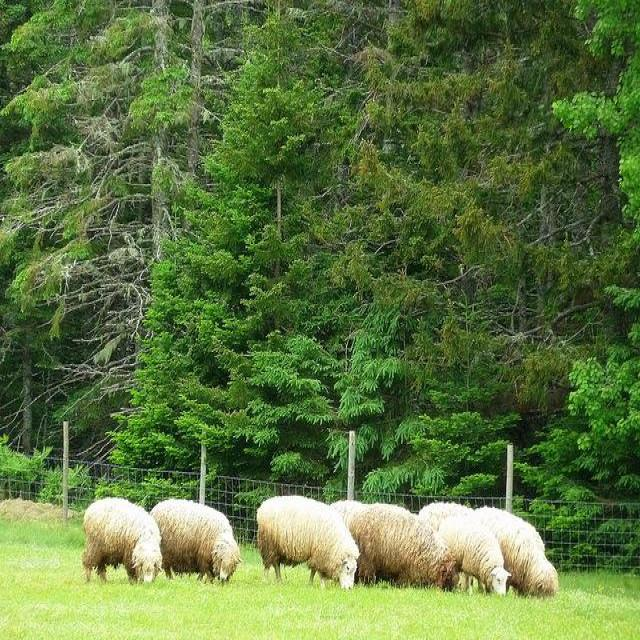Sheep: (257, 495, 361, 592), (348, 504, 460, 591), (418, 503, 512, 596), (149, 499, 244, 585), (80, 493, 162, 588), (474, 508, 559, 596)
